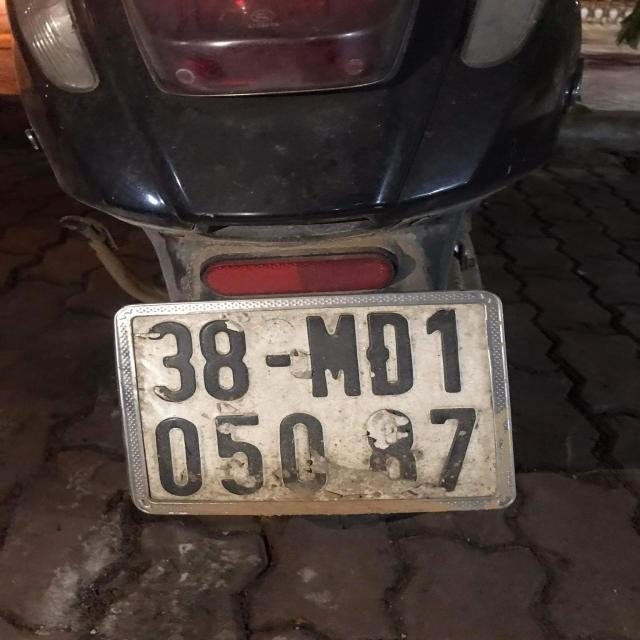0: (152, 414, 205, 498)
1: (423, 306, 470, 394)
3: (144, 318, 198, 404)
5: (212, 410, 266, 495)
7: (425, 405, 480, 492)
8: (200, 317, 252, 400)
D: (363, 309, 417, 397)
M: (302, 313, 363, 400)
